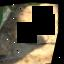Morning glory: (0, 0, 64, 64)
